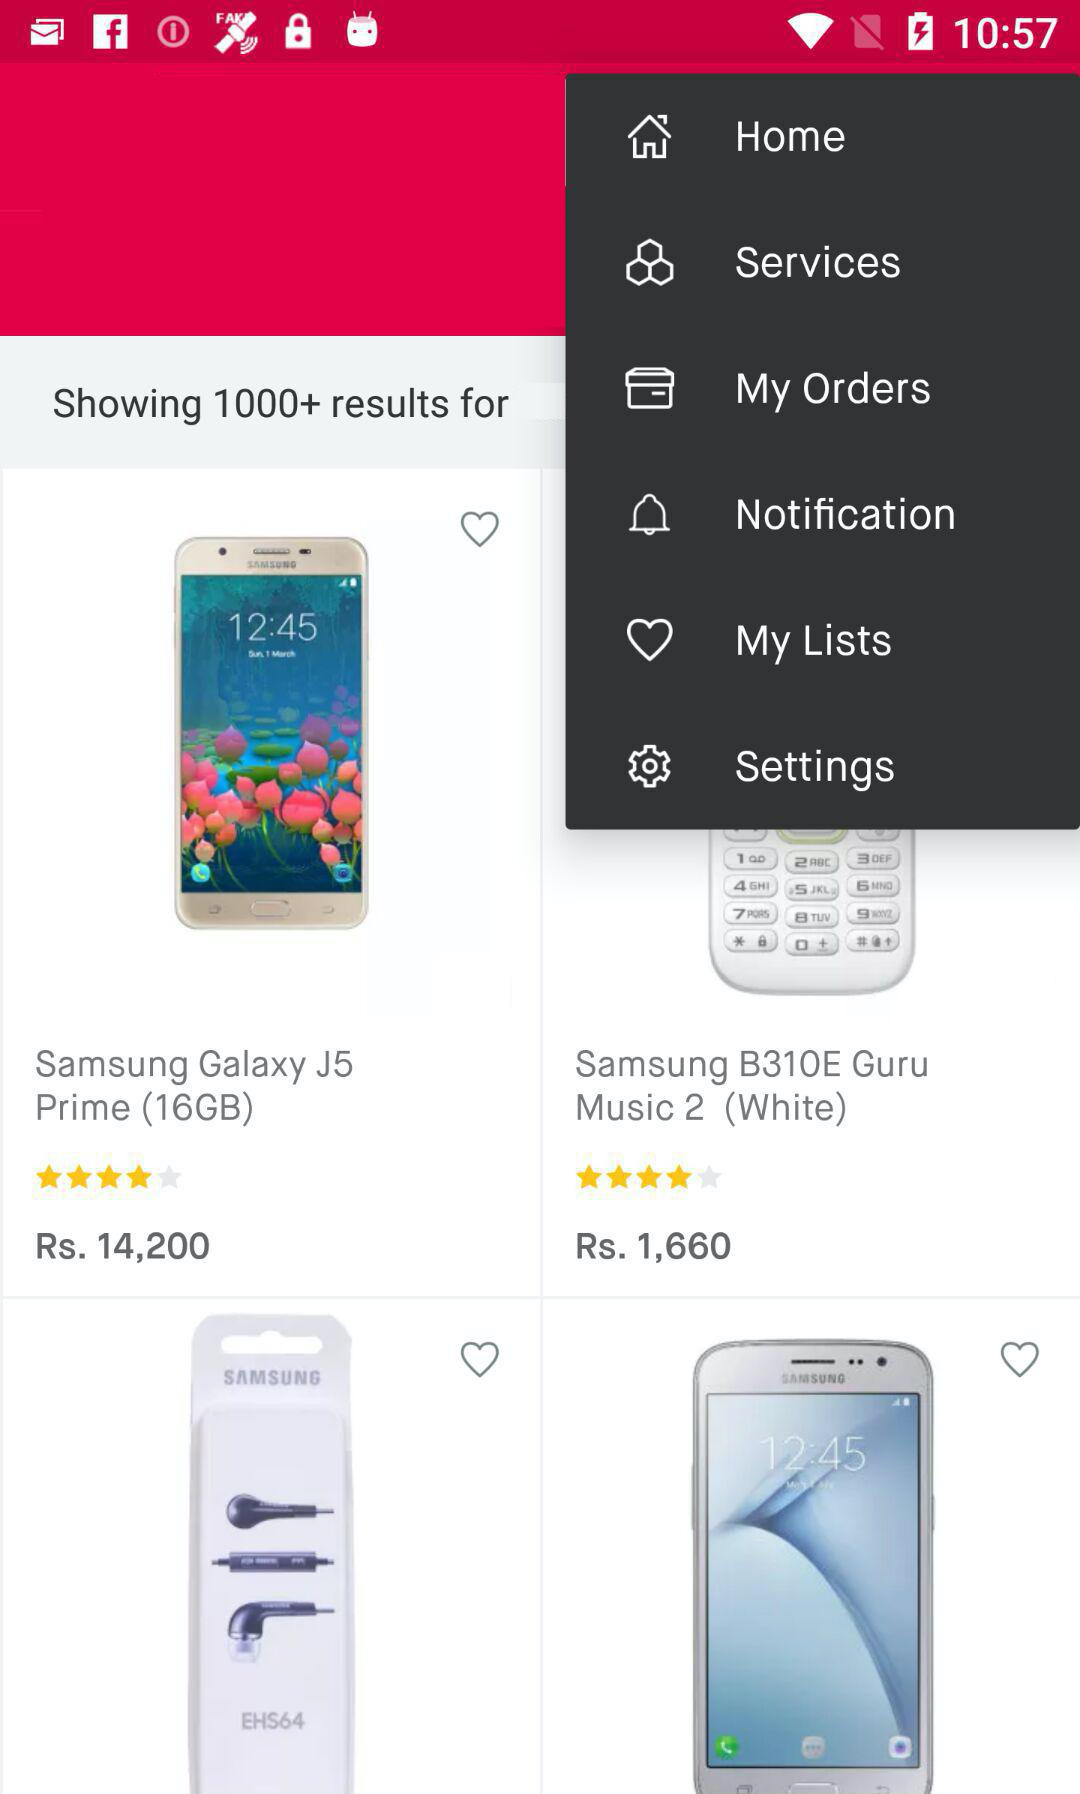Icon: (37, 1164, 184, 1190), (577, 1165, 723, 1189), (626, 618, 674, 664), (626, 114, 673, 160), (628, 745, 673, 789), (628, 493, 673, 537), (461, 1340, 500, 1379), (460, 511, 500, 548), (1001, 1342, 1040, 1379)
Image: (691, 1338, 935, 1793), (188, 1313, 355, 1794), (173, 537, 372, 932), (708, 830, 919, 998), (625, 238, 675, 288), (625, 366, 675, 411)
Modal: (565, 74, 1080, 830)
Text: (577, 1049, 928, 1129), (37, 1049, 355, 1128), (55, 386, 510, 425), (735, 370, 931, 416), (737, 497, 954, 532), (735, 748, 896, 794), (737, 621, 892, 668), (735, 243, 901, 281), (37, 1231, 211, 1263), (575, 1230, 732, 1263), (737, 120, 846, 154)
UpperTaskBar: (1, 1, 1080, 64)
